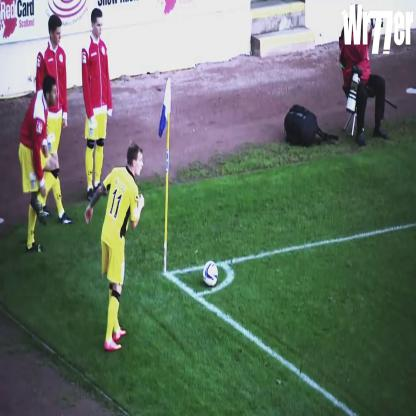corner kick: (116, 55, 246, 373)
